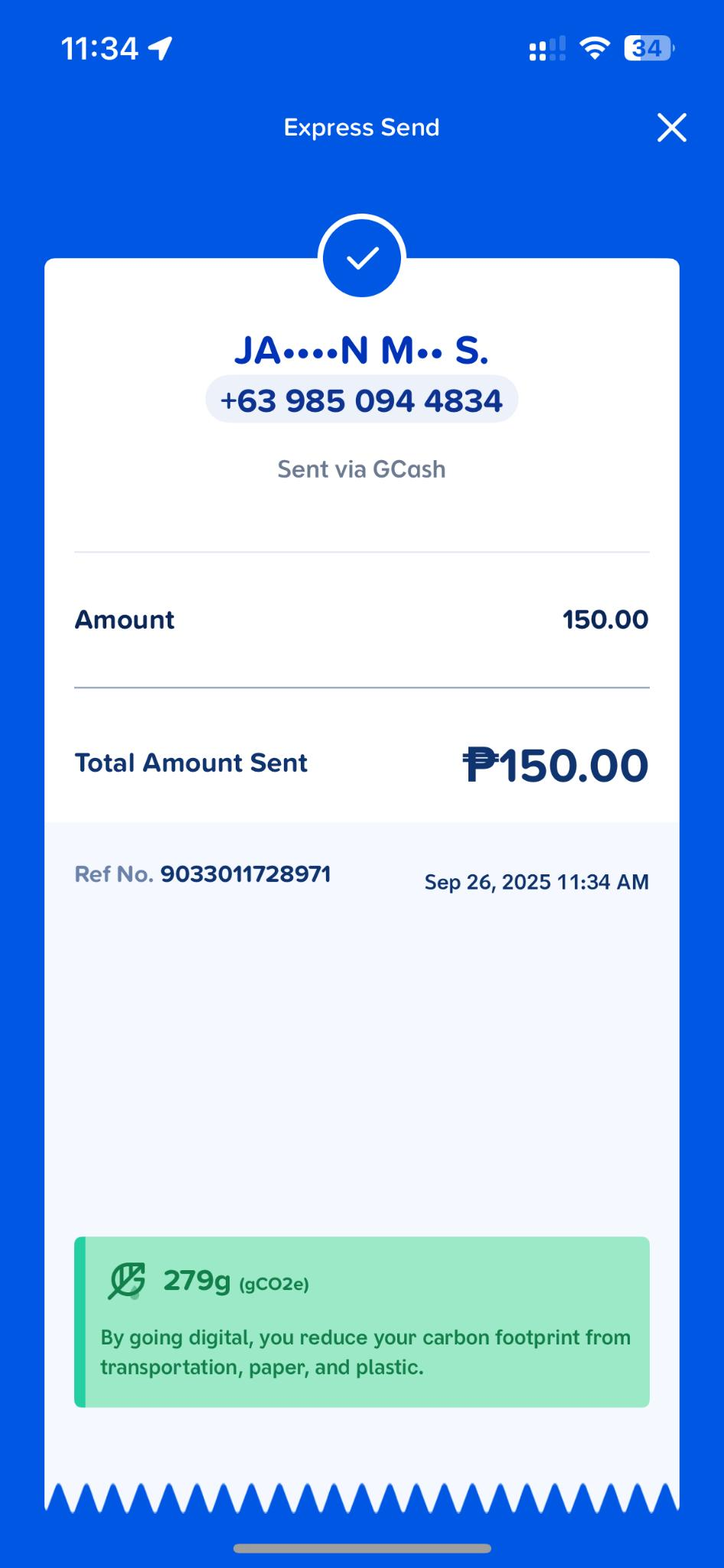Receipt: (0, 86, 724, 1529)
